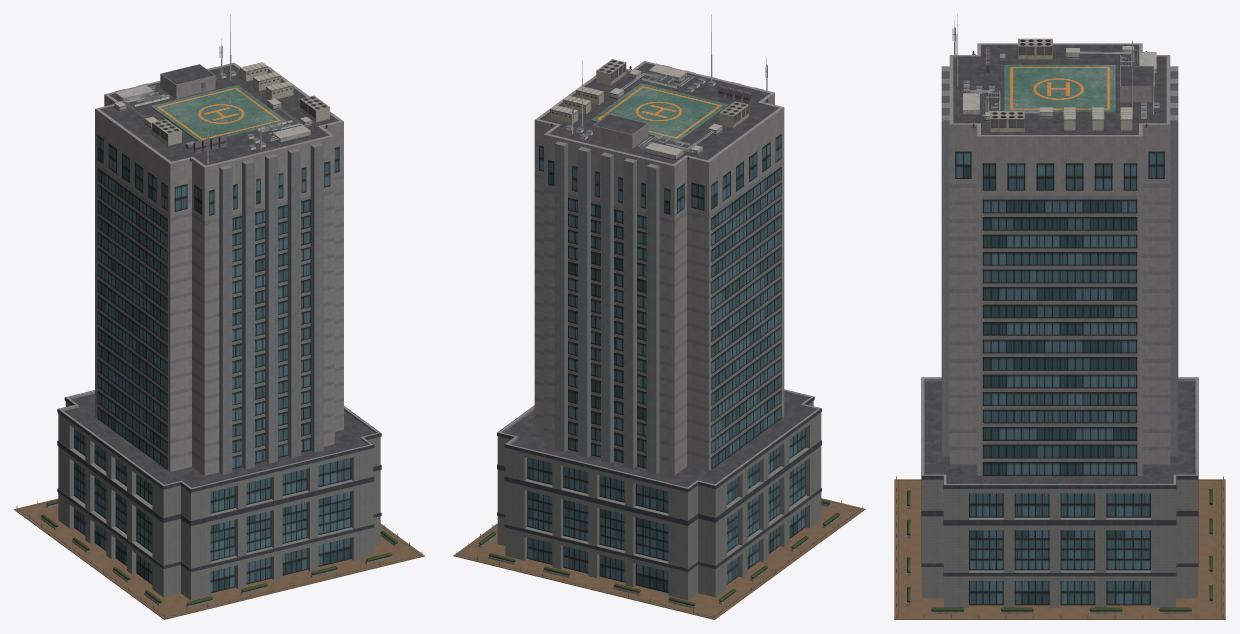
The model's file is jctlowBld50_Cb.fbx.
3 renders of one model, left to right at view 1: azimuth 30°, elevation 25°; view 2: azimuth 150°, elevation 25°; view 3: azimuth 270°, elevation 25°, orthographic. The views are drawn at different scales.
Visible parts, largest first — view 1: jctlowBld50_Cb; view 2: jctlowBld50_Cb; view 3: jctlowBld50_Cb.
Boxes of the visible parts, x1=… form: jctlowBld50_Cb: x1=14, y1=14, x2=424, y2=619; jctlowBld50_Cb: x1=453, y1=14, x2=865, y2=619; jctlowBld50_Cb: x1=894, y1=14, x2=1225, y2=619.
Bounding box in the file's own units: 6000 × 10658 × 6000.
11 materials, 11 textured.
